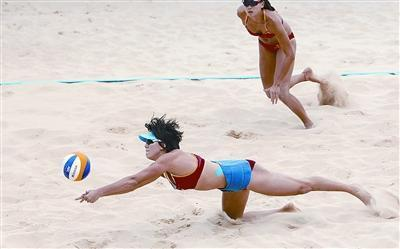Fall-Detected: (79, 111, 373, 232)
